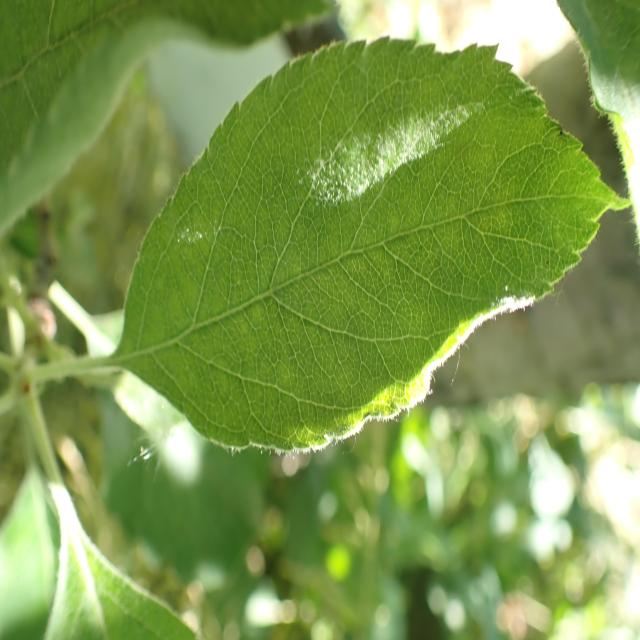healthy: (115, 36, 631, 456), (0, 0, 340, 236), (555, 1, 640, 260)
